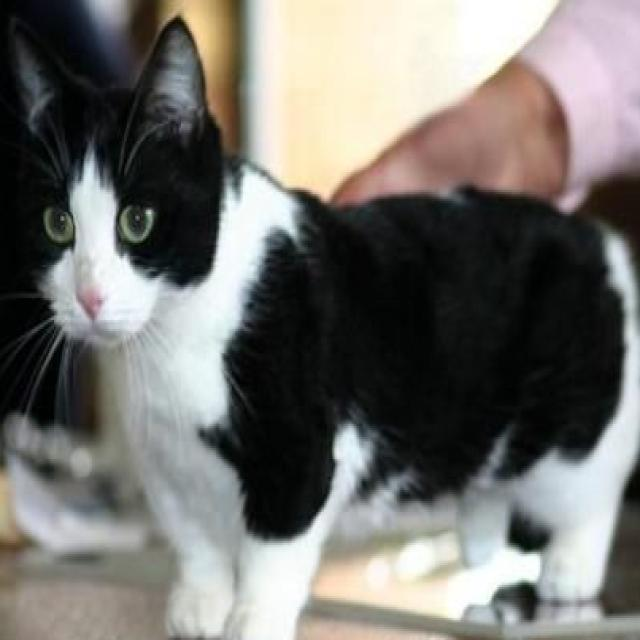Munchkin: (0, 6, 640, 640)
